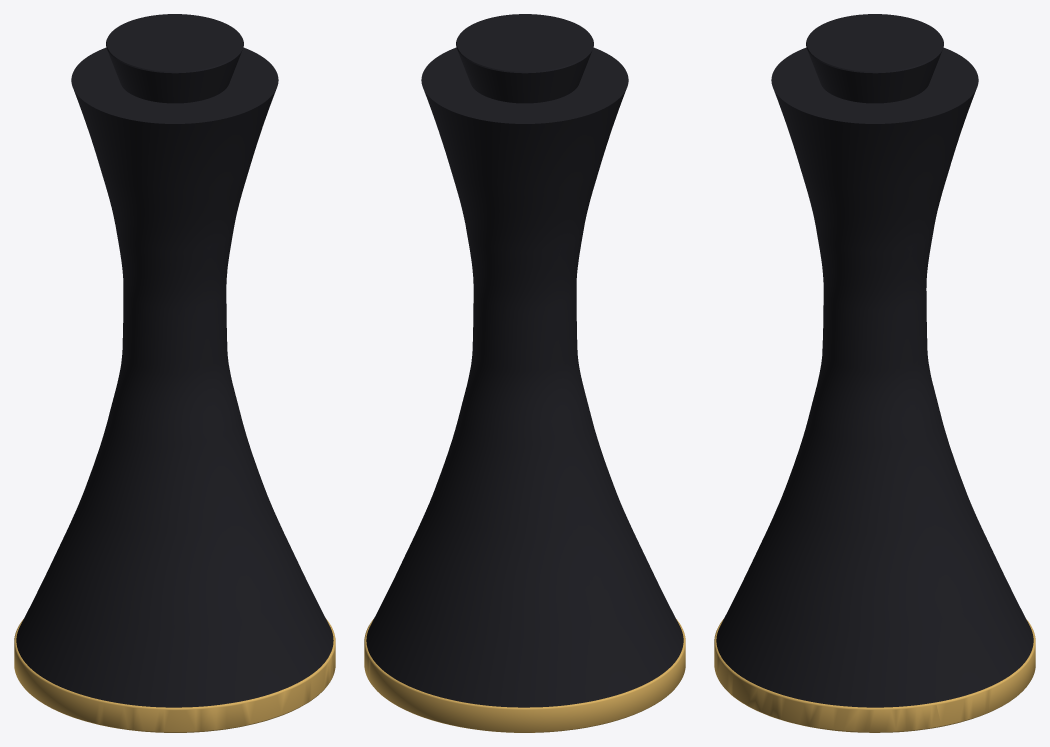
The model's file is queen-black-hd.glb.
3 views of the same model, side by side, from view 1: azimuth 30°, elevation 25°; view 2: azimuth 150°, elevation 25°; view 3: azimuth 270°, elevation 25° (orthographic).
Visible parts, largest first — view 1: 05_dama_telo_0, 05_dama_telo_1, 05_dama_podstavec; view 2: 05_dama_telo_0, 05_dama_telo_1, 05_dama_podstavec; view 3: 05_dama_telo_0, 05_dama_telo_1, 05_dama_podstavec.
Boxes of the visible parts, left/top/right/bottom form: 05_dama_telo_0: left=16, top=47, right=333, bottom=707; 05_dama_telo_1: left=106, top=14, right=243, bottom=103; 05_dama_podstavec: left=14, top=619, right=335, bottom=732; 05_dama_telo_0: left=366, top=47, right=683, bottom=707; 05_dama_telo_1: left=456, top=14, right=593, bottom=103; 05_dama_podstavec: left=364, top=619, right=685, bottom=732; 05_dama_telo_0: left=716, top=47, right=1033, bottom=707; 05_dama_telo_1: left=806, top=14, right=943, bottom=103; 05_dama_podstavec: left=714, top=619, right=1035, bottom=732.
Bounding box in the file's own units: 0.7252 × 1.55 × 0.7254.
